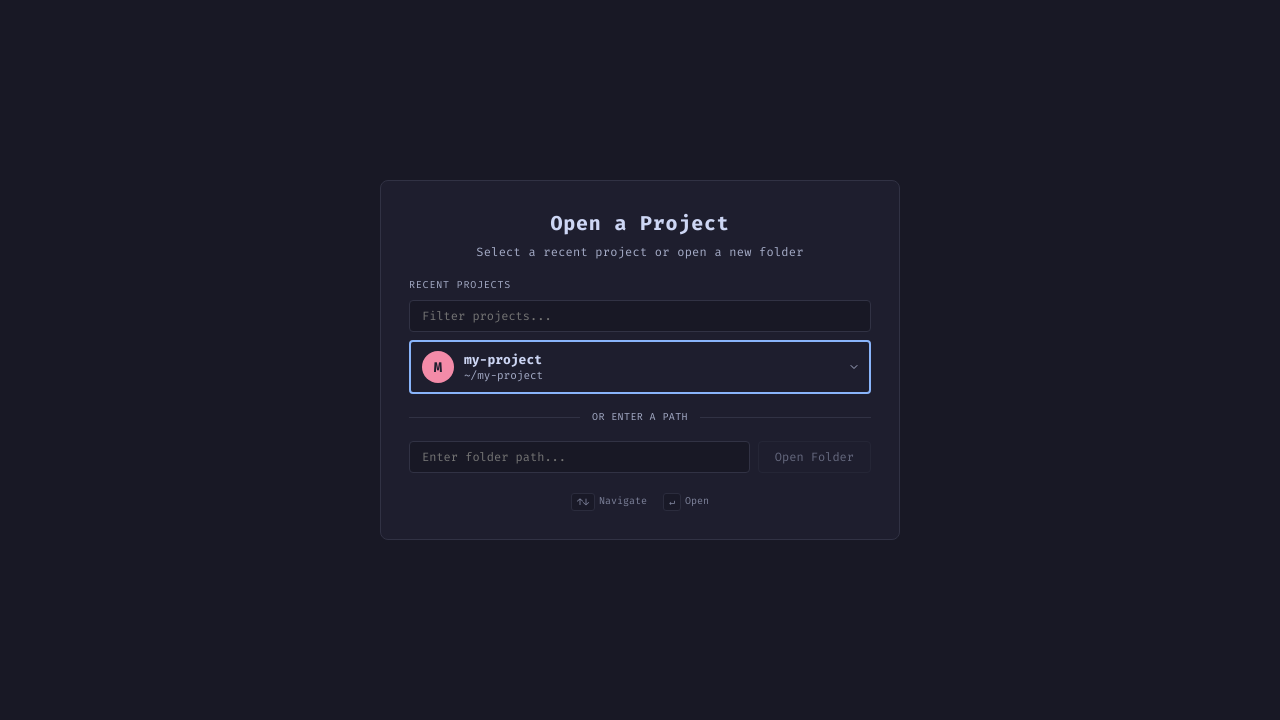
Test: ProjectPicker › expands inline worktrees for multi-worktree projects
Click the text "my-project" at (503, 360), box [464, 352, 542, 367]
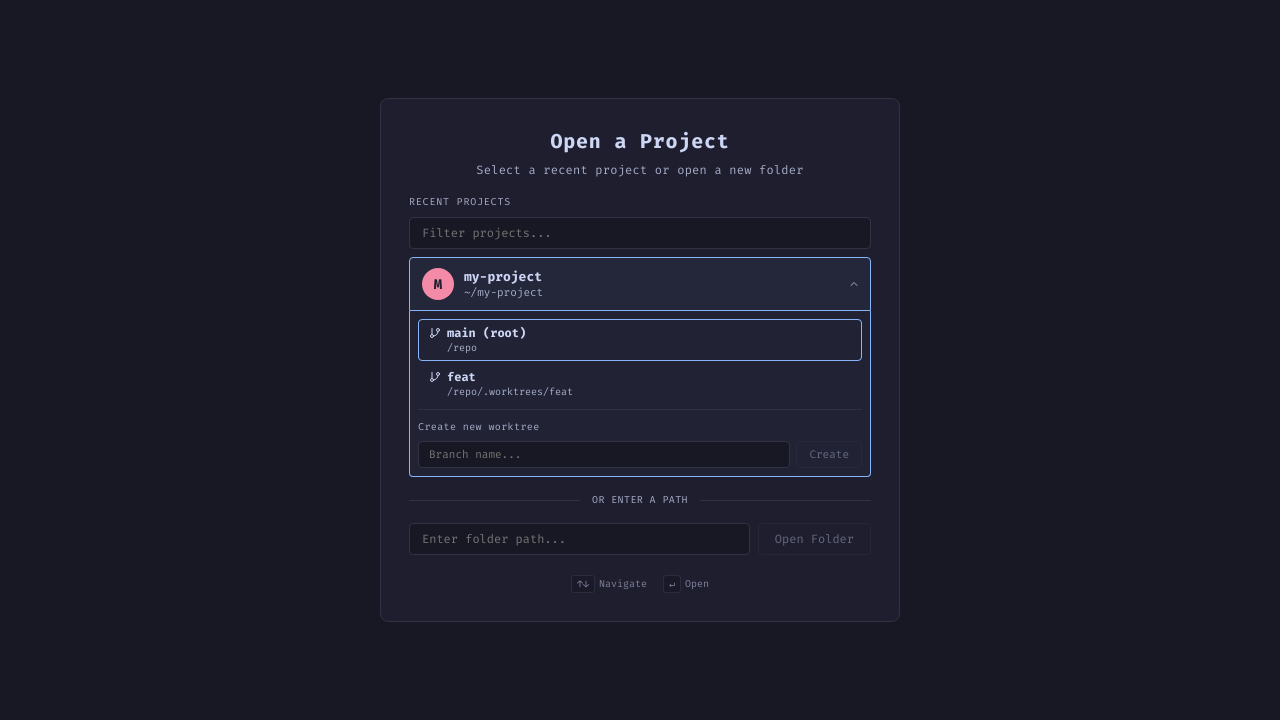
Check: the text "main (root)" is shown, box [447, 326, 526, 340]
Check: the text "feat" is shown, box [447, 370, 476, 384]
